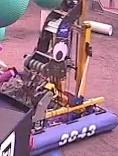blue_number: (56, 122, 97, 148)
